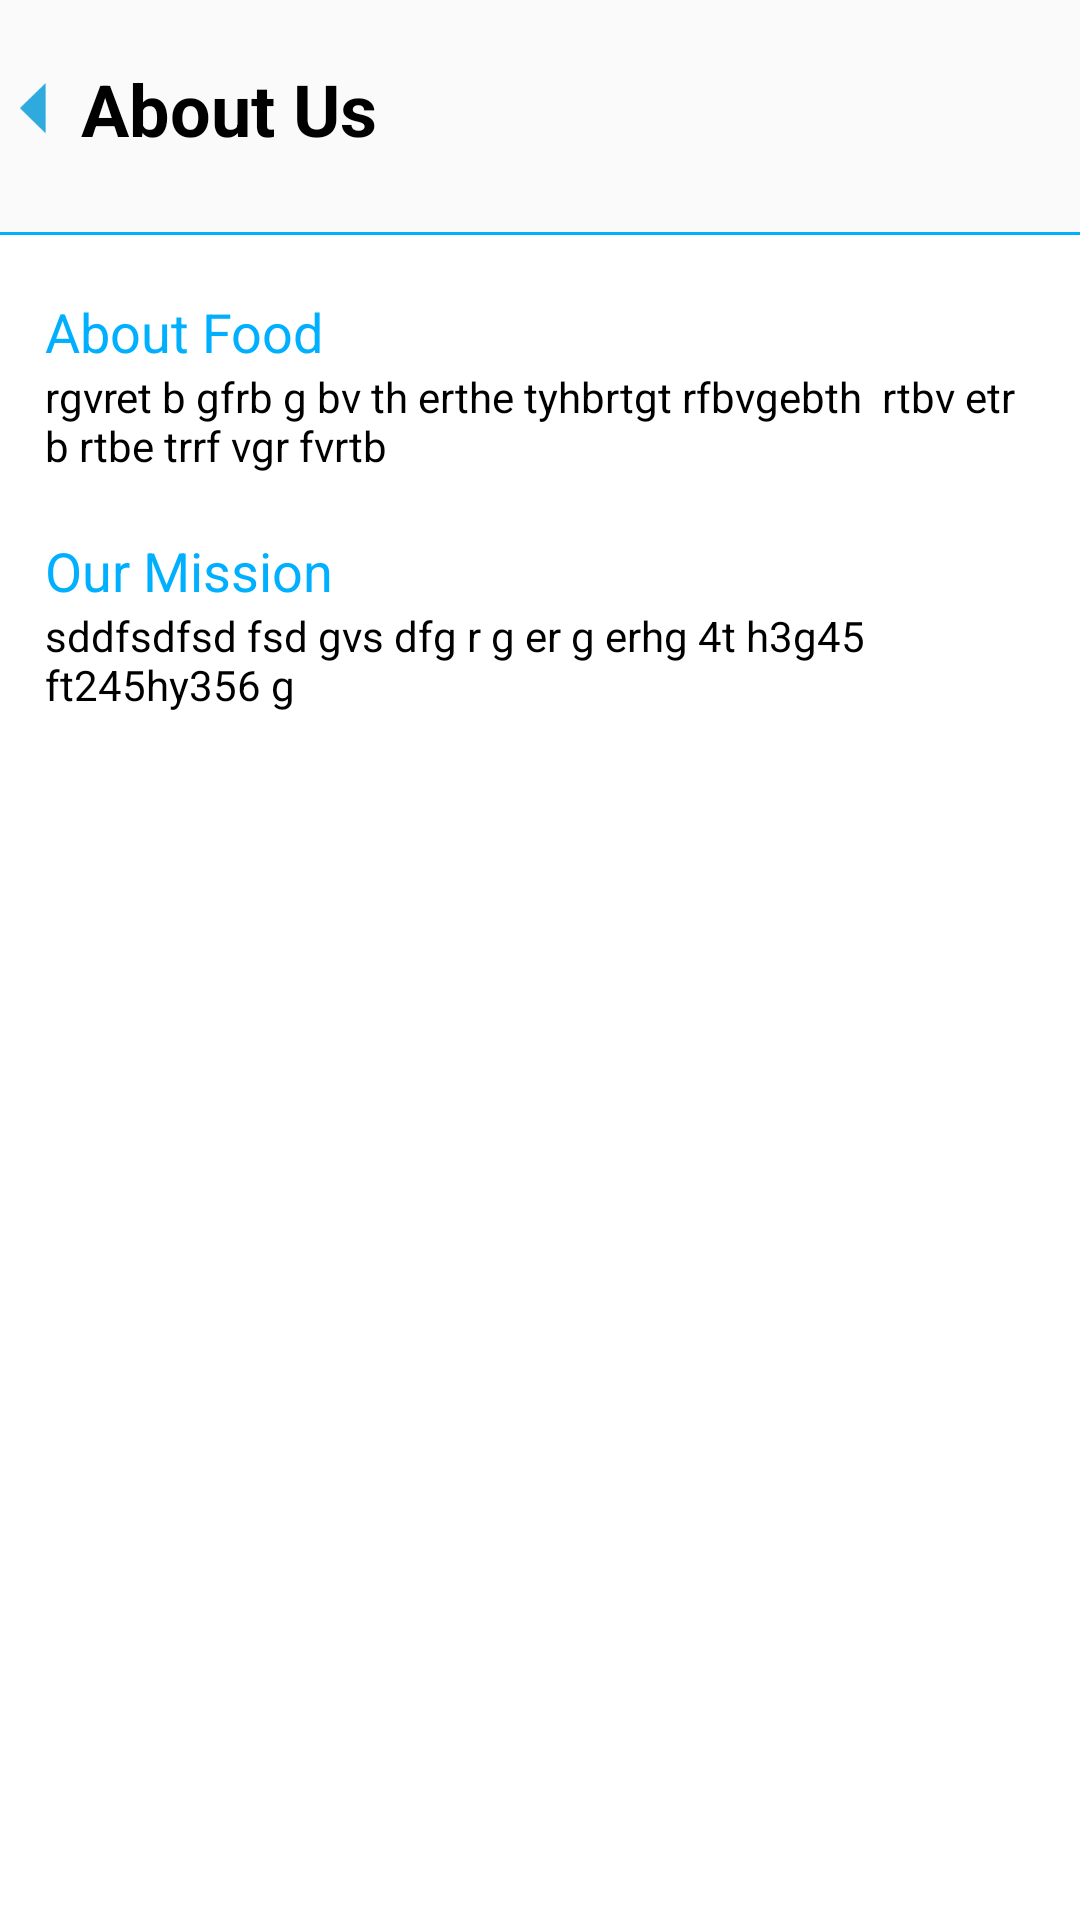

Icon click points for this 1080w x 1920h phone screenshot, format [x,y]:
option back: [33,108]
